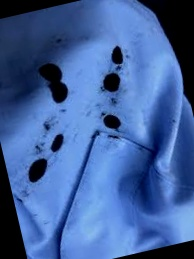ink: (38, 60, 70, 105), (27, 158, 51, 182), (101, 73, 123, 93), (103, 113, 122, 132), (110, 44, 125, 66), (49, 135, 65, 153)
